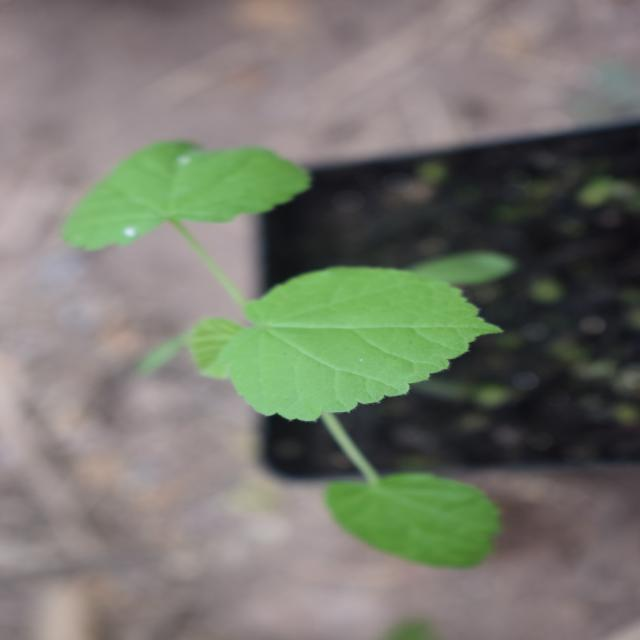abutilon theophrasti: (52, 83, 512, 514)
